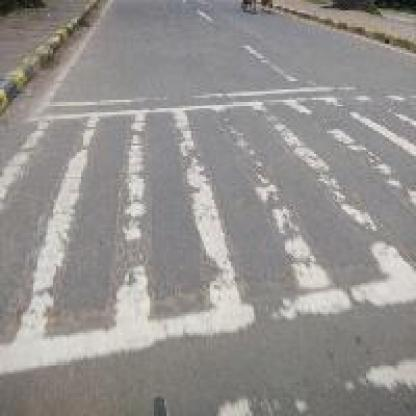Speed Bump: (2, 83, 412, 412)
